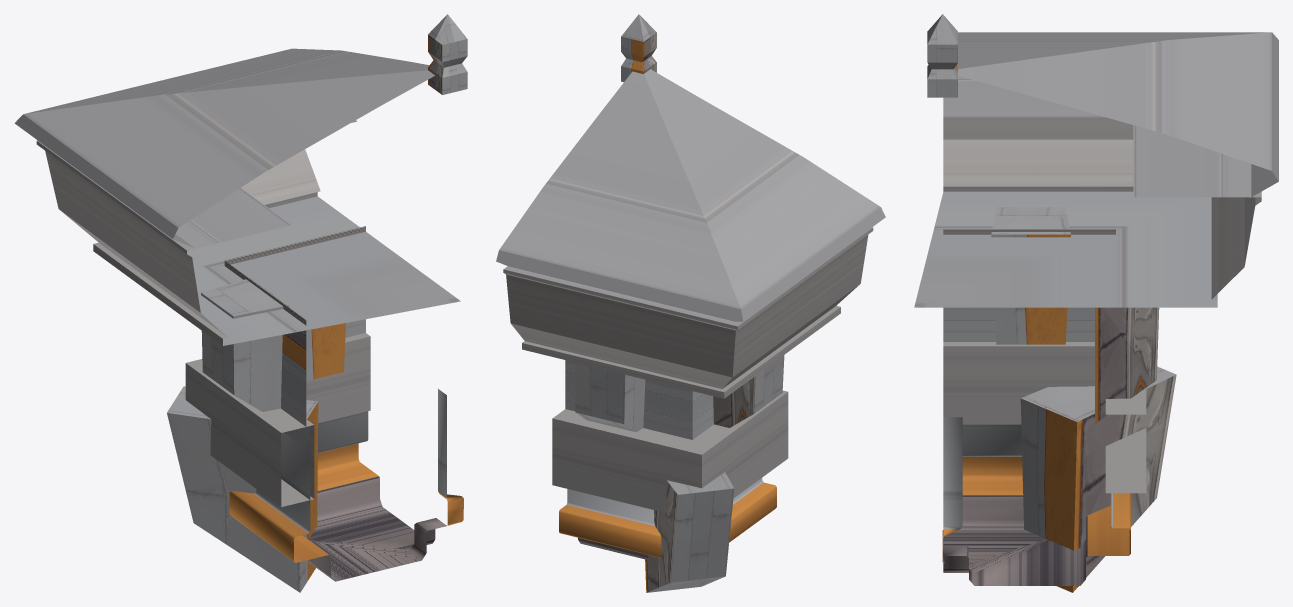
Rendered from SM_WallArchCorner.fbx.
The picture shows the model from 3 angles, left to right: view 1: azimuth 30°, elevation 25°; view 2: azimuth 150°, elevation 25°; view 3: azimuth 270°, elevation 25°; orthographic projection. The views are drawn at different scales.
Parts seen in each view (by area): view 1: SM_WallArchCorner; view 2: SM_WallArchCorner; view 3: SM_WallArchCorner.
Part boxes in pixels (box(x1,y1,x2,y2)): SM_WallArchCorner: box(14, 14, 467, 592); SM_WallArchCorner: box(496, 14, 885, 592); SM_WallArchCorner: box(914, 14, 1278, 592).
Size of the model in its own units: 1.69 by 3.23 by 1.74.
